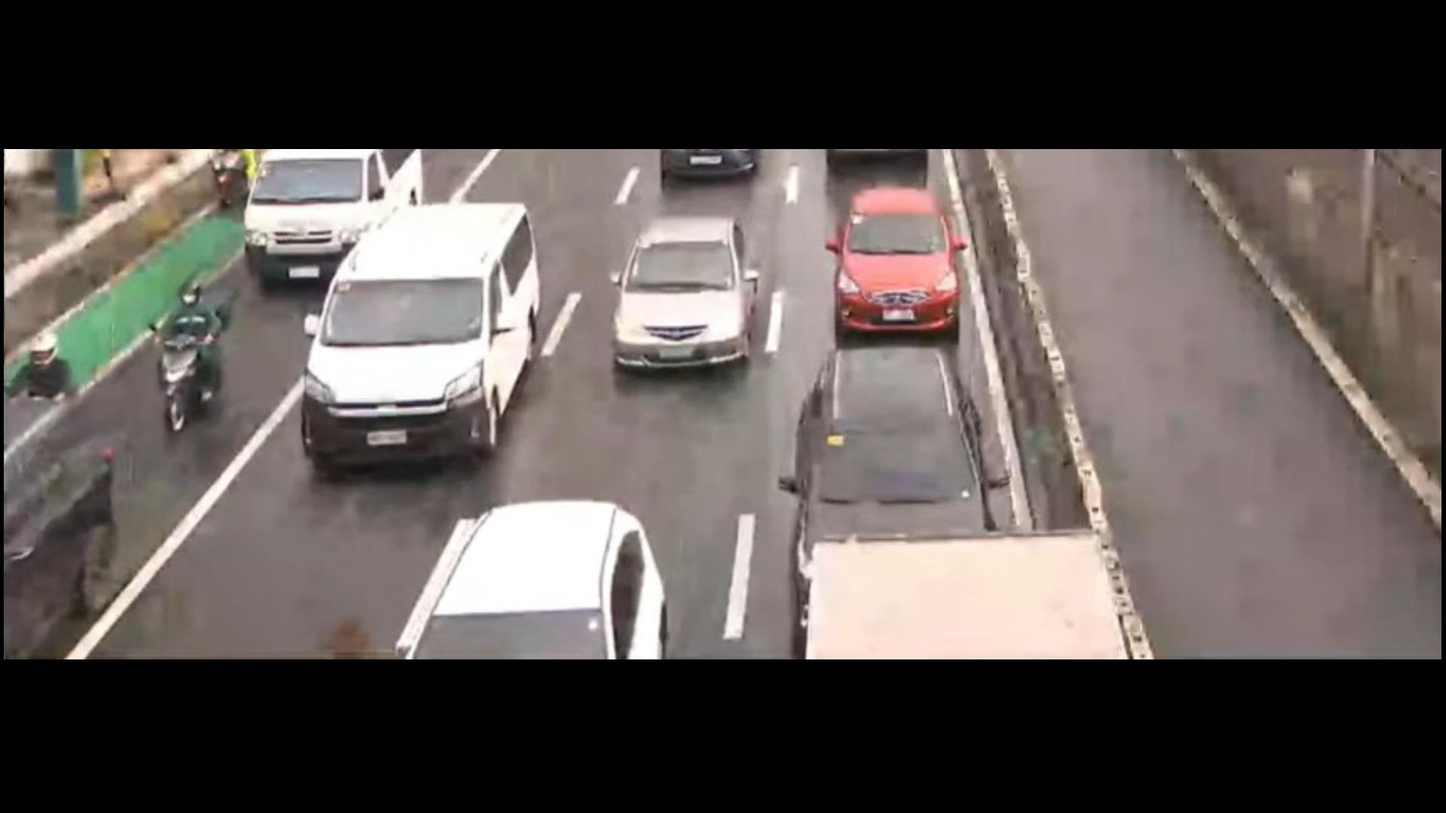Motorcycle: (138, 273, 262, 431), (21, 322, 104, 392), (204, 150, 251, 211)
SUV: (747, 347, 1023, 588), (390, 490, 684, 669)
Sedan: (590, 204, 769, 384), (823, 172, 983, 332)
Van: (275, 189, 561, 491), (232, 142, 427, 301)
